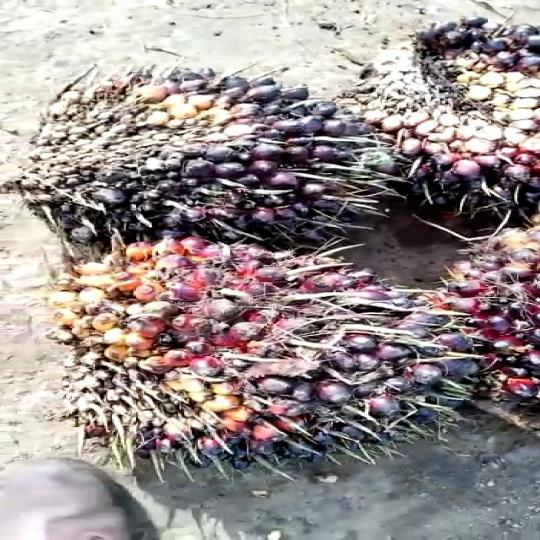kurang masak: (33, 240, 495, 478), (1, 61, 405, 258)
